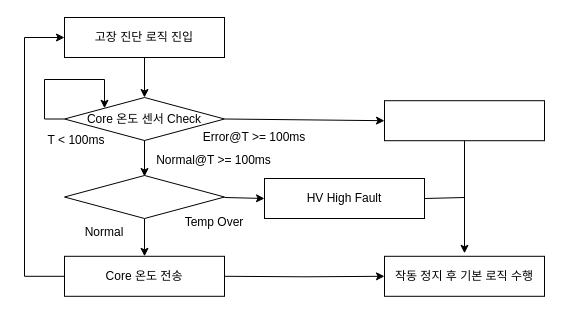
Some shapes in this 562 by 314 pixel diagram are drawn without their labels. Each missing label, with the centre of its shape:
Core 온도 Check: (x=144, y=196)
Core 온도 센서 Fault: (x=464, y=120)
